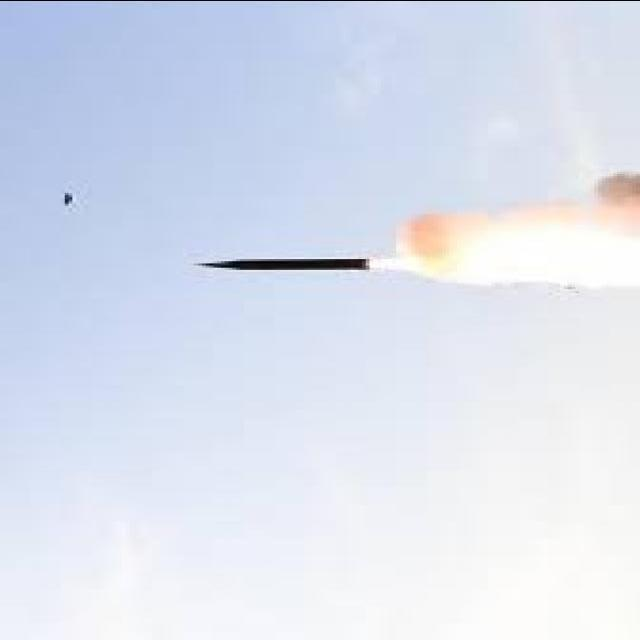missile: (189, 244, 384, 297)
